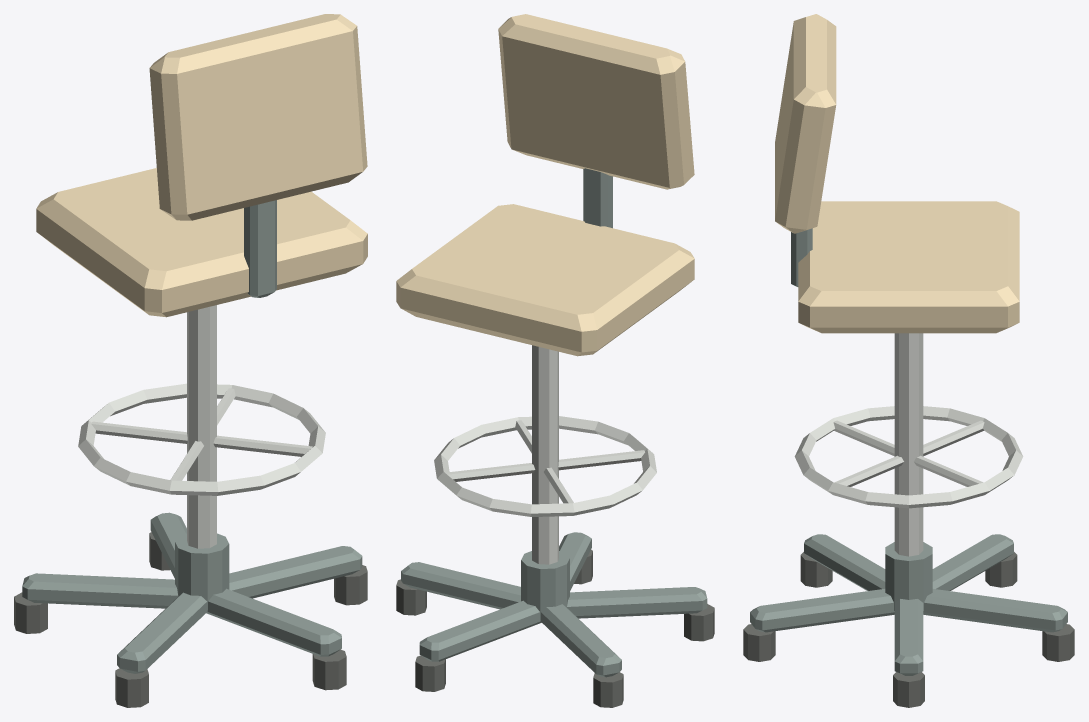
The model's file is lab_drafting_chair.glb.
The picture shows the model from 3 angles, left to right: view 1: azimuth 30°, elevation 25°; view 2: azimuth 150°, elevation 25°; view 3: azimuth 270°, elevation 25°; orthographic projection. The views are drawn at different scales.
Parts seen in each view (by area): view 1: lab_drafting_chair; view 2: lab_drafting_chair; view 3: lab_drafting_chair.
Part boxes in pixels (bbox=[...]): lab_drafting_chair: bbox=[14, 14, 367, 707]; lab_drafting_chair: bbox=[396, 14, 714, 707]; lab_drafting_chair: bbox=[743, 14, 1074, 707].
Bounding box in the file's own units: 0.886 × 1.8 × 0.9269.
